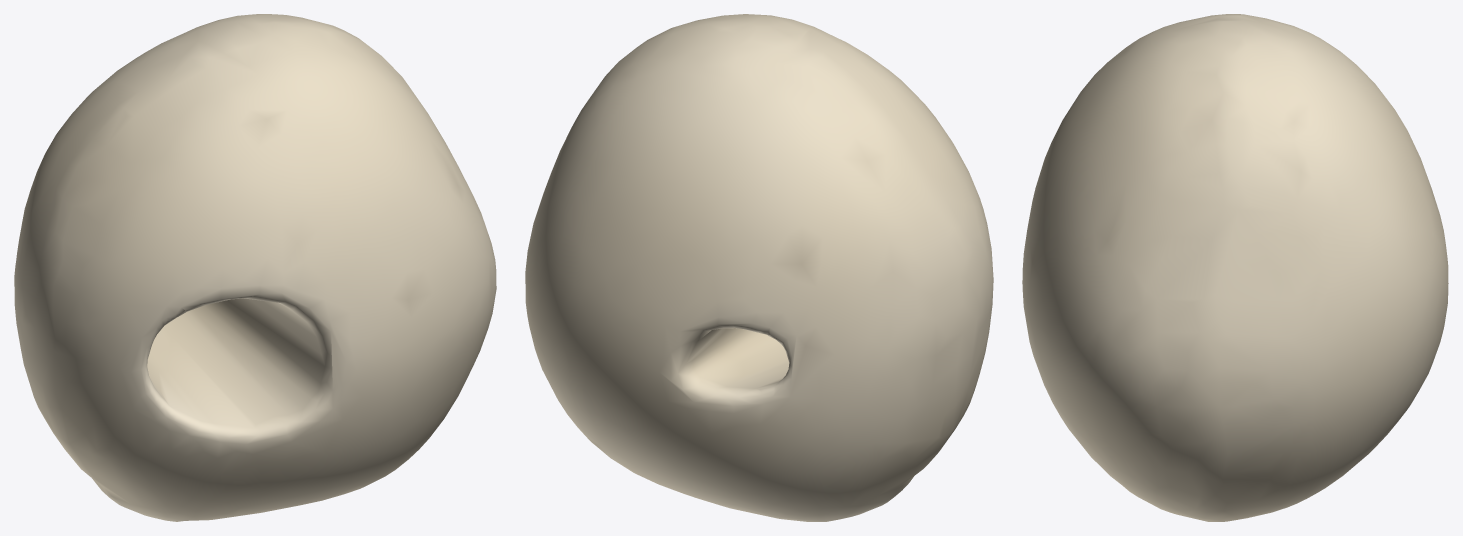
The model's file is lumen_pesec_bila.glb.
3 views of the same model, side by side, from view 1: azimuth 30°, elevation 25°; view 2: azimuth 150°, elevation 25°; view 3: azimuth 270°, elevation 25° (orthographic).
Parts seen in each view (by area): view 1: Lumen pesec bila; view 2: Lumen pesec bila; view 3: Lumen pesec bila.
Part boxes in pixels (x1,y1,x2,y2): Lumen pesec bila: (14,14,496,521); Lumen pesec bila: (525,14,993,521); Lumen pesec bila: (1022,14,1448,521).
Bounding box in the file's own units: 0.0348 × 0.0356 × 0.0307.
